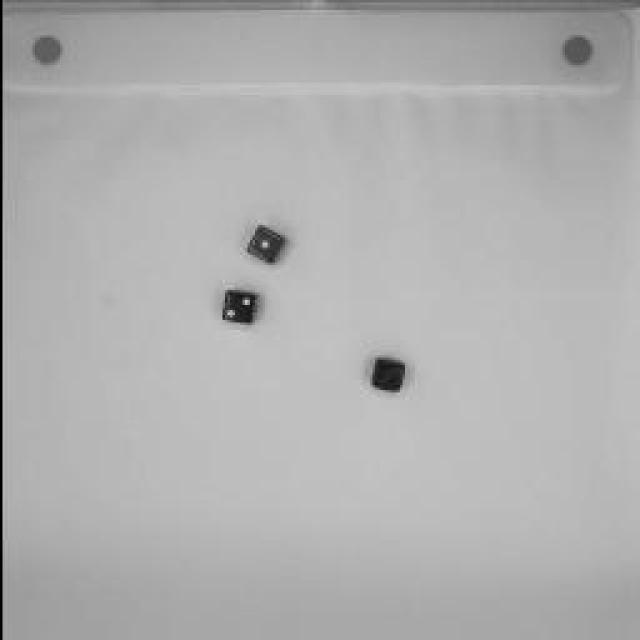dice_1: (240, 219, 288, 269)
dice_2: (214, 280, 258, 330)
dice_3: (365, 348, 410, 398)
